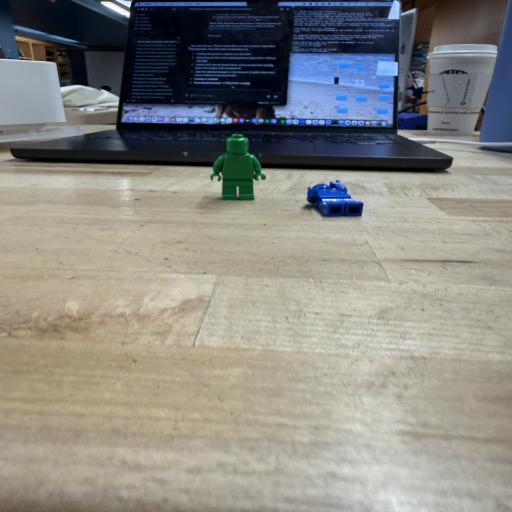blue-minifig: (307, 180, 363, 216)
green-minifig: (211, 135, 261, 200)
